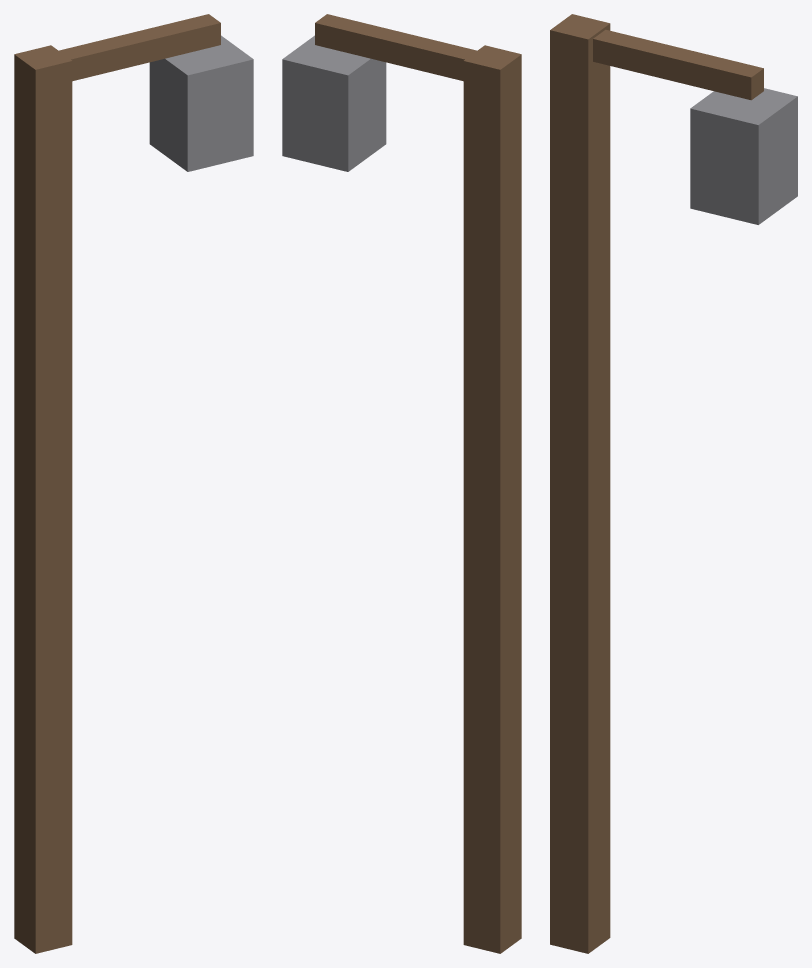
The model's file is LampPost.fbx.
The picture shows the model from 3 angles, left to right: view 1: azimuth 30°, elevation 25°; view 2: azimuth 150°, elevation 25°; view 3: azimuth 330°, elevation 25°; orthographic projection. The views are drawn at different scales.
Parts seen in each view (by area): view 1: LampPost; view 2: LampPost; view 3: LampPost.
Boxes of the visible parts, box(x1,y1,x2,y2) form: LampPost: box(14, 14, 253, 953); LampPost: box(282, 14, 521, 953); LampPost: box(550, 14, 797, 953).
Size of the model in its own units: 0.795 by 0.25 by 3.2.
